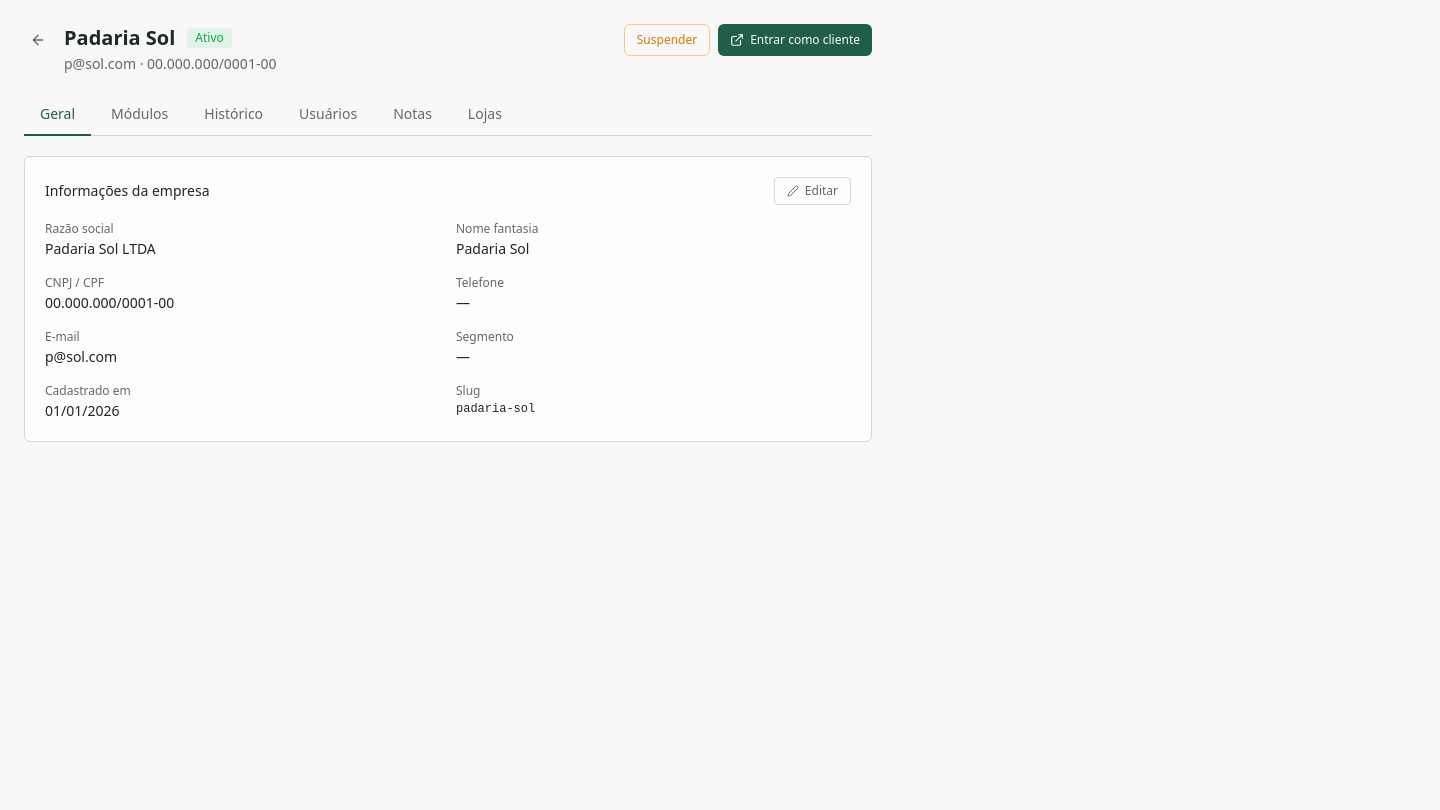
Scenario: PlatformTenantDetailPage — impersonation and password reset › opens the tab before asking the server and hands the token over the channel, never through localStorage
Click the button "Entrar como cliente" at [795, 40], box [718,24,872,56]
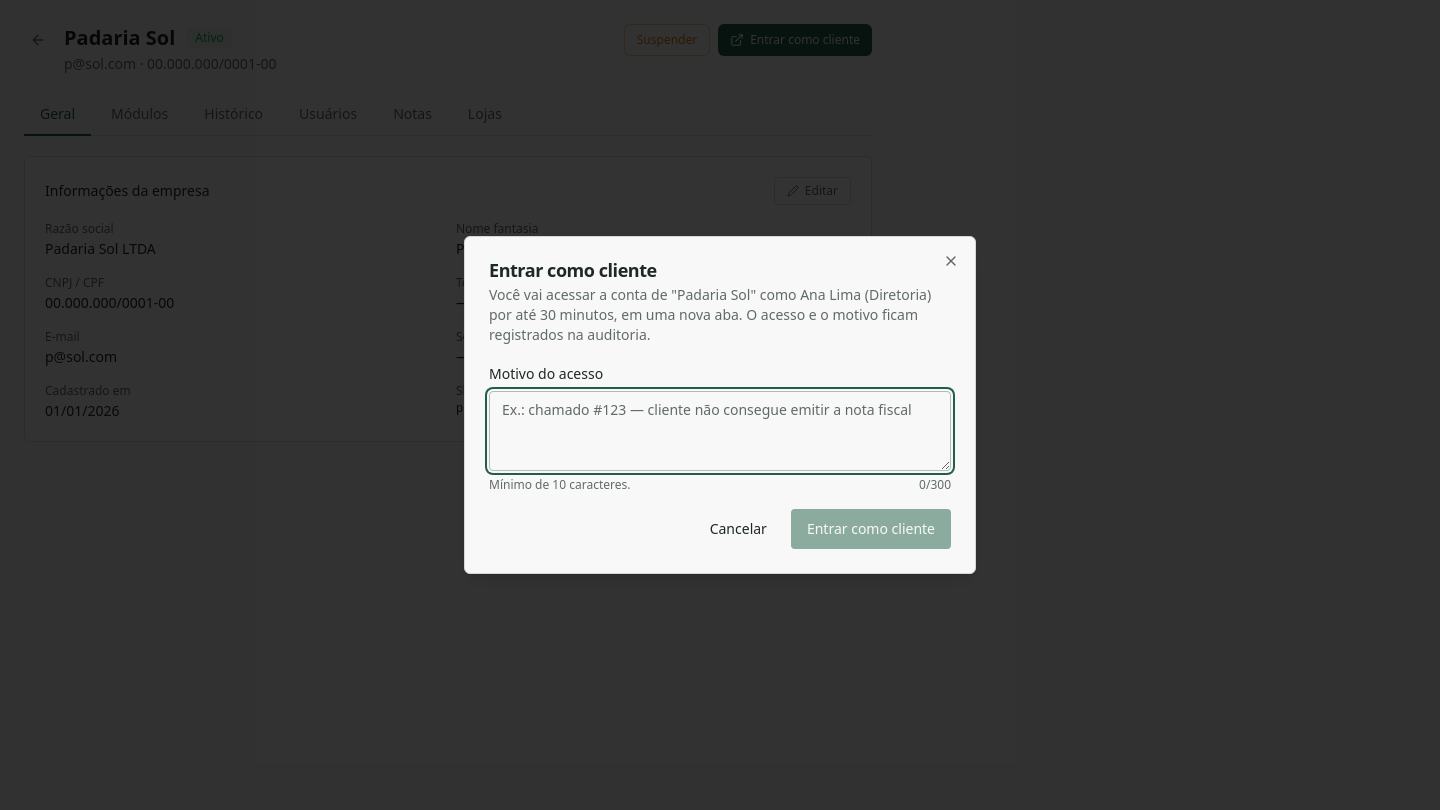
Replace the text in the text box labelled "Motivo do acesso" with "Chamado #42: nota fiscal rejeitada" at [720, 431], box [489,391,951,471]
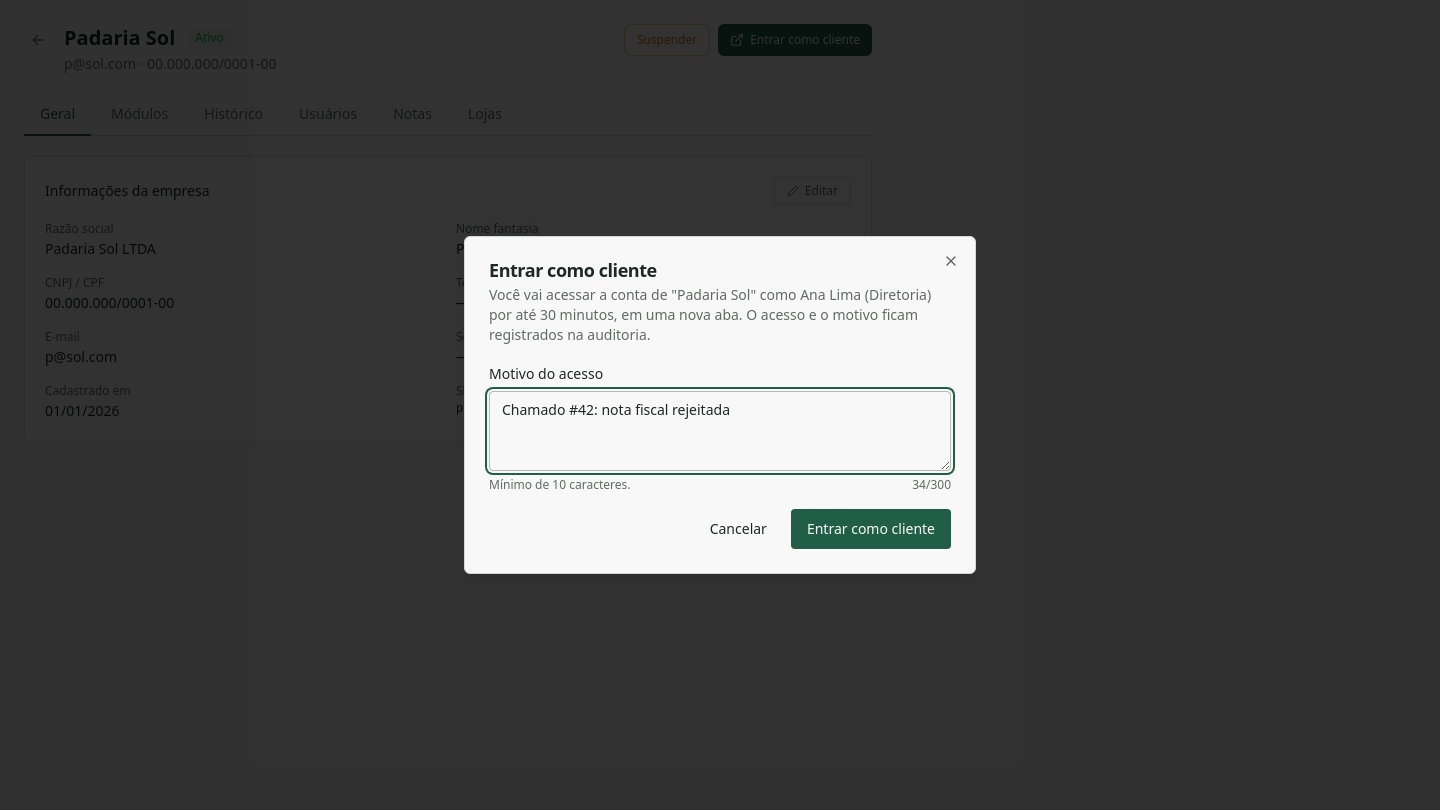
Click the button "Entrar como cliente" at [871, 529], box [791,509,951,549]
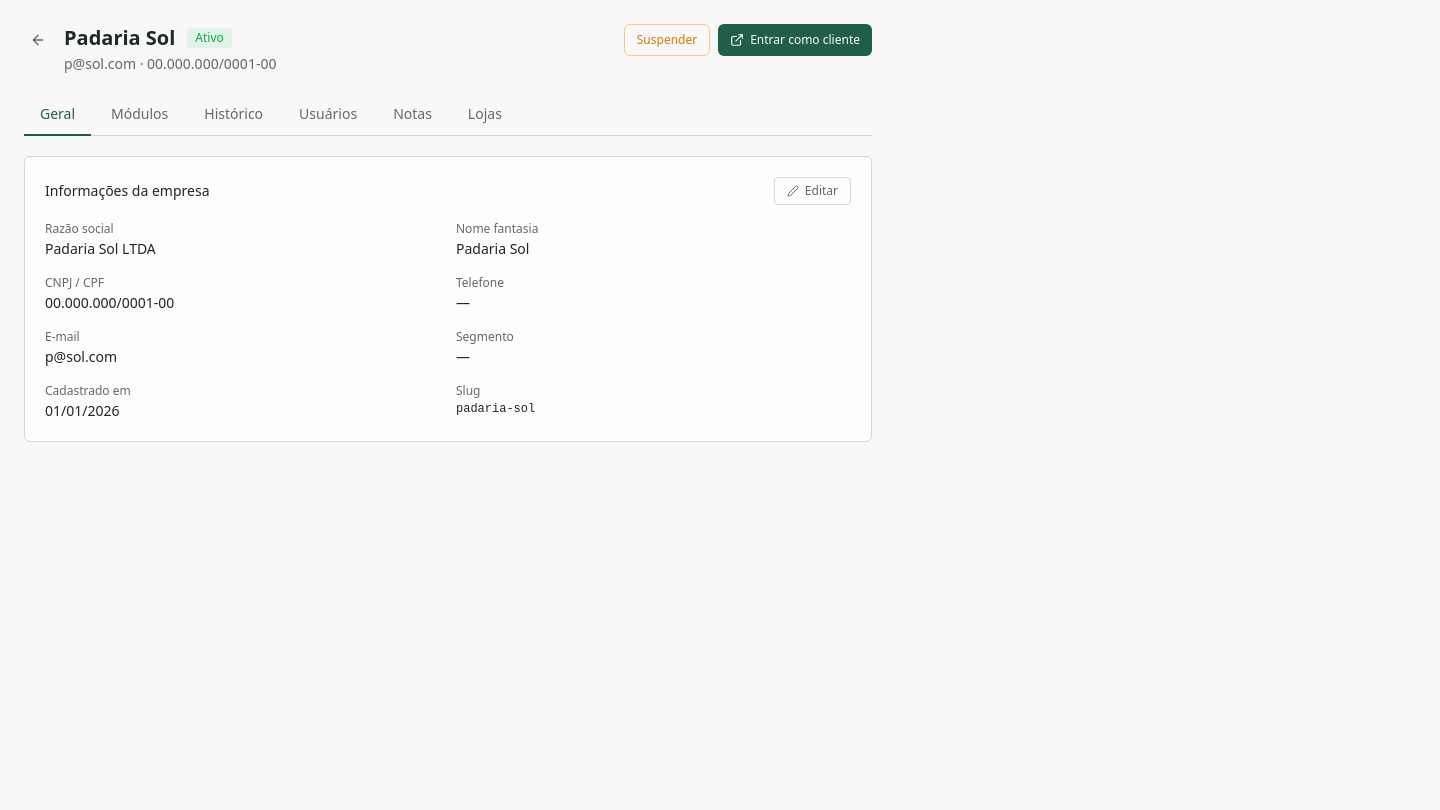
Check: the label labelled "Motivo do acesso" is gone
